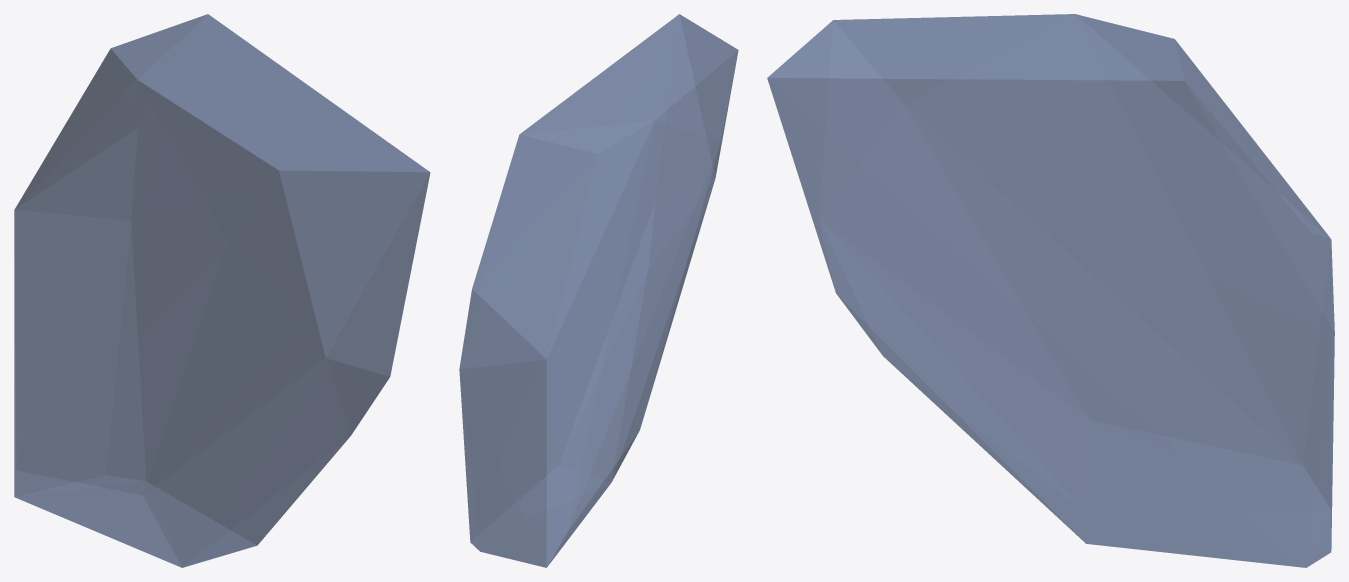
3 views of the same model, side by side, from view 1: azimuth 30°, elevation 25°; view 2: azimuth 150°, elevation 25°; view 3: azimuth 270°, elevation 25° (orthographic). The views are drawn at different scales.
Visible parts, largest first — view 1: Shape_IndexedFaceSet.100_Shape_IndexedFaceSet.9621; view 2: Shape_IndexedFaceSet.100_Shape_IndexedFaceSet.9621; view 3: Shape_IndexedFaceSet.100_Shape_IndexedFaceSet.9621.
Boxes of the visible parts, left/top/right/bottom form: Shape_IndexedFaceSet.100_Shape_IndexedFaceSet.9621: left=14, top=14, right=430, bottom=567; Shape_IndexedFaceSet.100_Shape_IndexedFaceSet.9621: left=459, top=14, right=738, bottom=567; Shape_IndexedFaceSet.100_Shape_IndexedFaceSet.9621: left=767, top=14, right=1334, bottom=567.
Size of the model in its own units: 0.0663 by 0.2521 by 0.2629.
